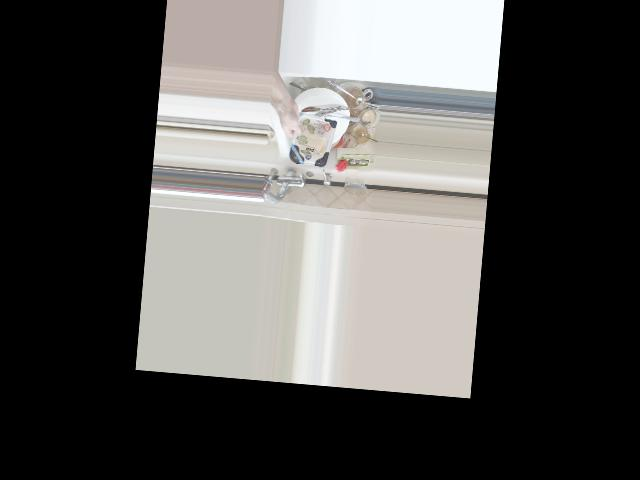cheese: (275, 102, 336, 171)
